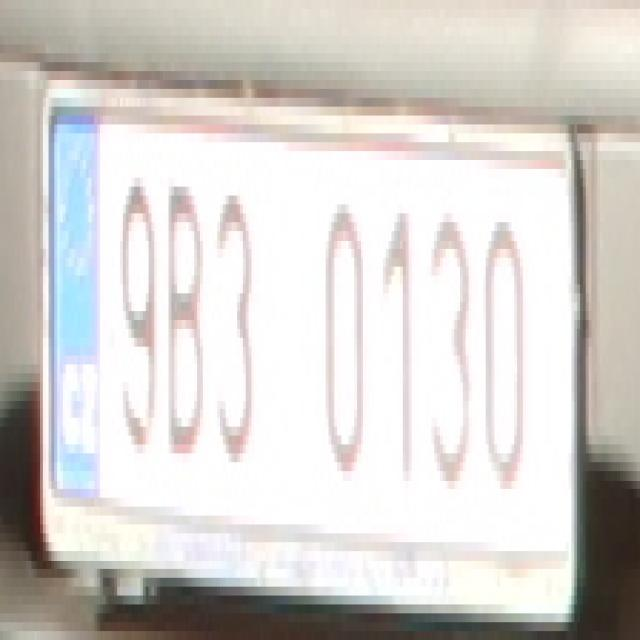0: (483, 204, 528, 489), (320, 187, 363, 462)
1: (380, 204, 417, 489)
3: (426, 204, 474, 489), (214, 178, 260, 453)
9: (117, 169, 157, 444)
B: (168, 169, 206, 444)
